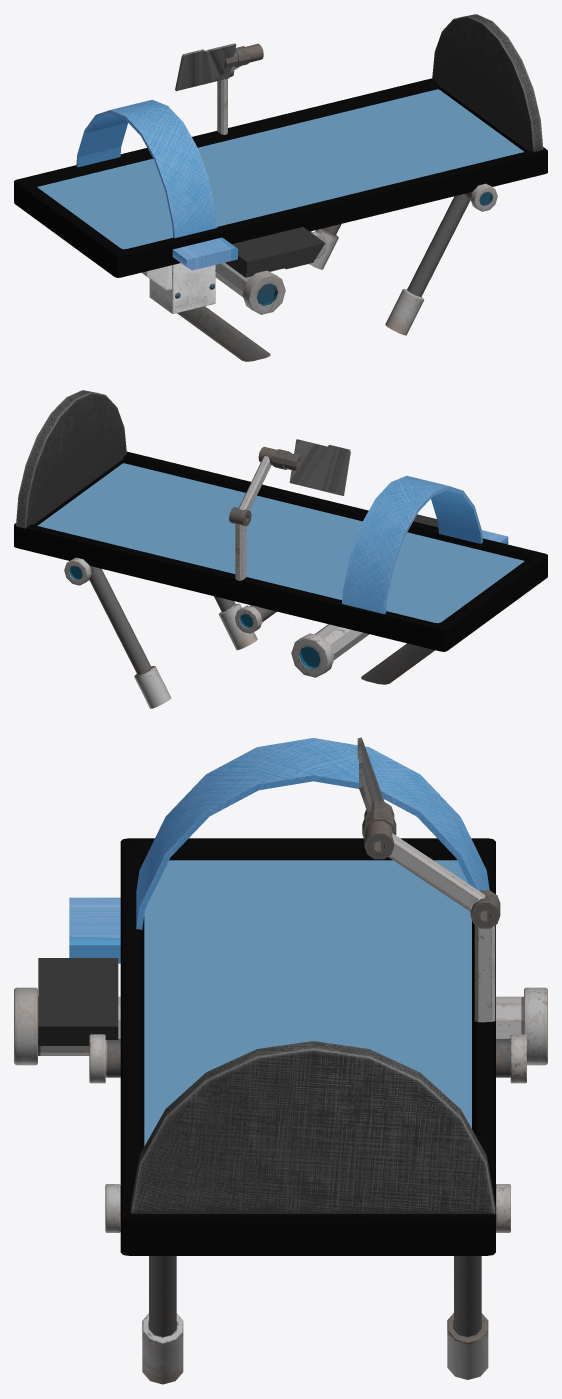
File: Cama v2.fbx
3 views of the same model, one above another, from view 1: azimuth 30°, elevation 25°; view 2: azimuth 150°, elevation 25°; view 3: azimuth 270°, elevation 25° (orthographic). The views are drawn at different scales.
Parts seen in each view (by area): view 1: Cama_Hospital; view 2: Cama_Hospital; view 3: Cama_Hospital.
Part boxes in pixels (<box>): Cama_Hospital: <box>14,14,547,361</box>; Cama_Hospital: <box>14,390,547,708</box>; Cama_Hospital: <box>14,737,547,1384</box>.
Size of the model in its own units: 238 by 147 by 142.
Materials: 3 (3 with a texture image).
